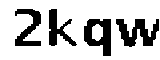2: (11, 7, 45, 51)
k: (46, 5, 80, 51)
q: (83, 14, 118, 60)
w: (117, 11, 160, 51)
